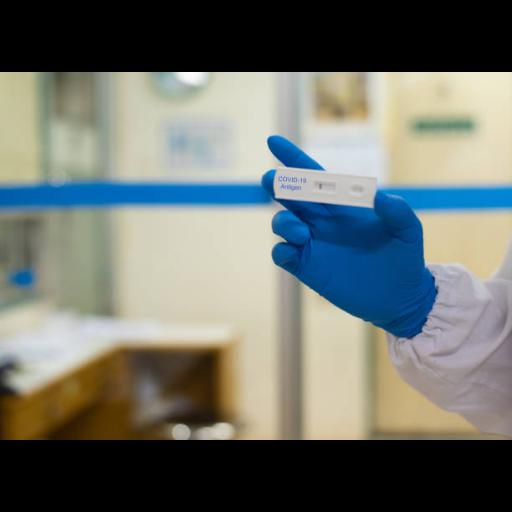Neg: (276, 168, 377, 208)
